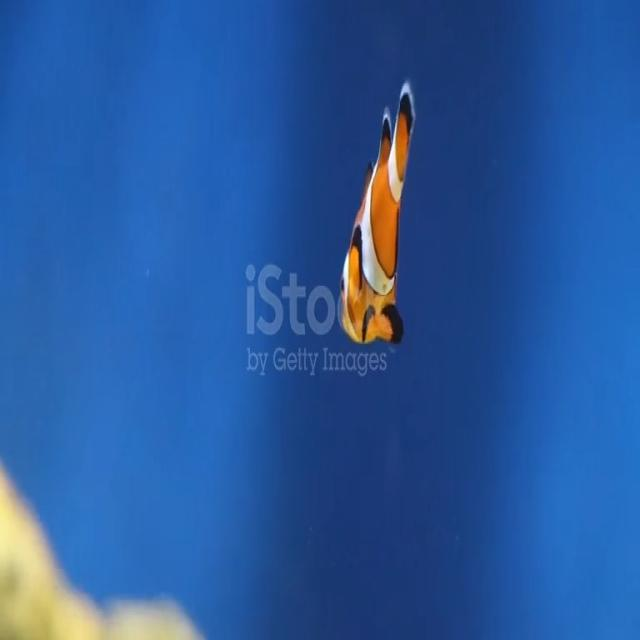fish: (337, 71, 411, 347)
